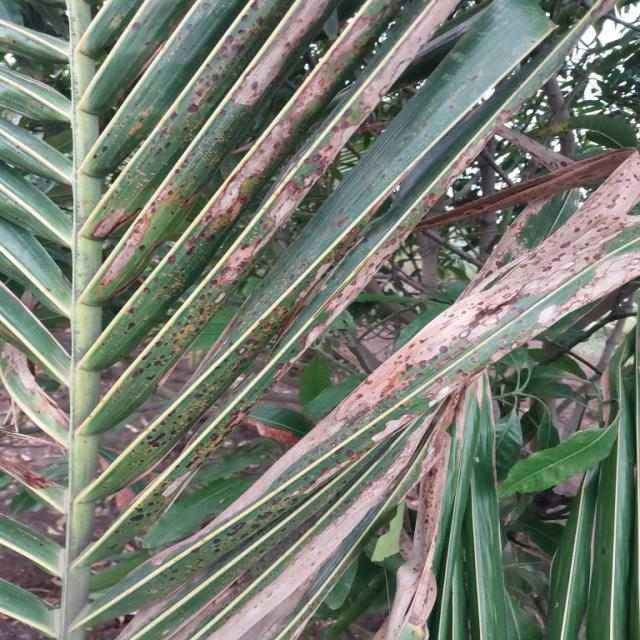gray leaf spot: (136, 161, 640, 639), (174, 0, 462, 211)
